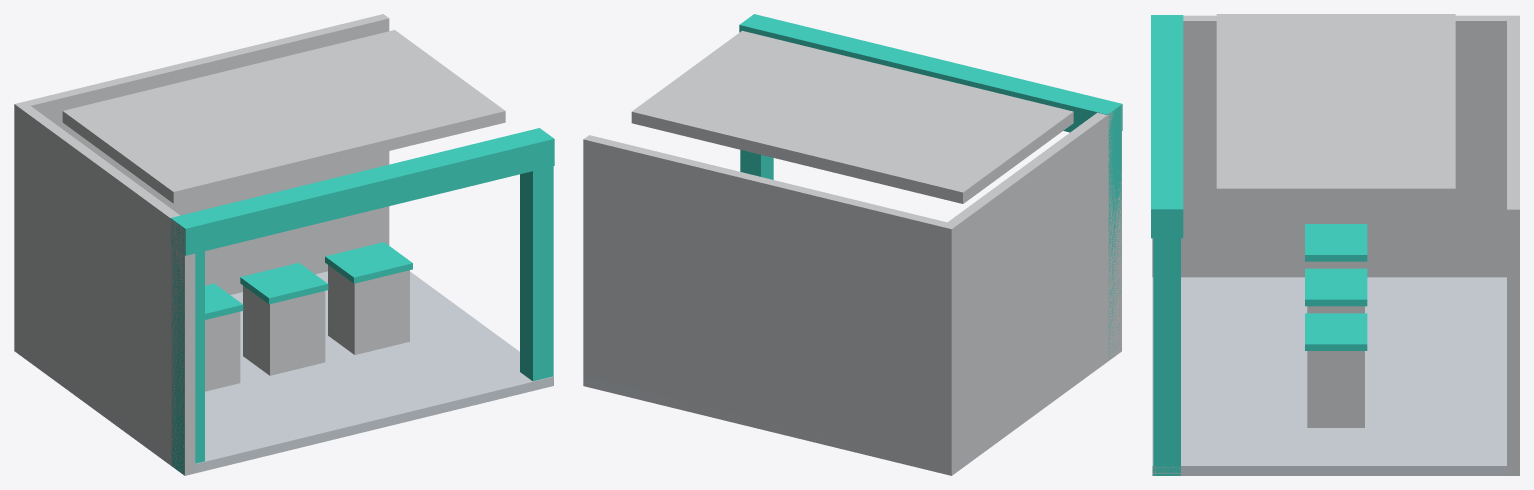
The picture shows the model from 3 angles, left to right: view 1: azimuth 30°, elevation 25°; view 2: azimuth 150°, elevation 25°; view 3: azimuth 270°, elevation 25°; orthographic projection. The views are drawn at different scales.
Parts seen in each view (by area): view 1: Exhibition Booth Concept; view 2: Exhibition Booth Concept; view 3: Exhibition Booth Concept.
Boxes of the visible parts, <box> form: Exhibition Booth Concept: <box>14,14,554,475</box>; Exhibition Booth Concept: <box>583,14,1122,475</box>; Exhibition Booth Concept: <box>1151,14,1519,475</box>.
Size of the model in its own units: 5 by 3.34 by 4.02.
